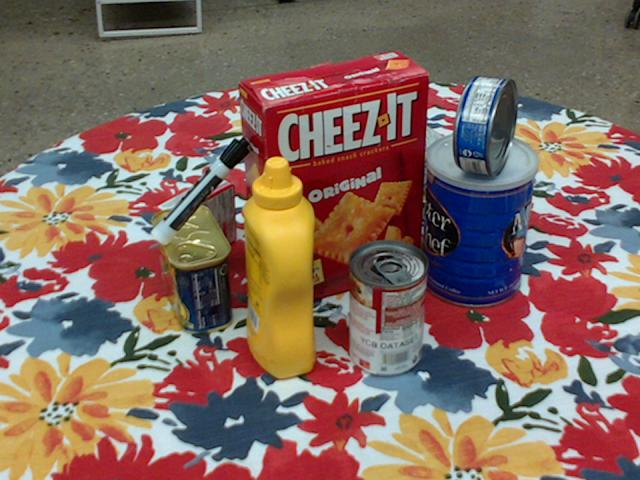cracker_box: (239, 51, 431, 309)
gelatin_box: (155, 175, 236, 275)
large_marker: (151, 136, 250, 244)
master_chef_can: (423, 132, 537, 309)
mug: (286, 122, 372, 220)
mustard_bottle: (243, 157, 314, 379)
potted_meat_can: (152, 204, 233, 334)
sugar_box: (346, 89, 500, 229)
tomato_soup_can: (347, 240, 428, 377)
tuna_fish_can: (455, 76, 517, 175)
